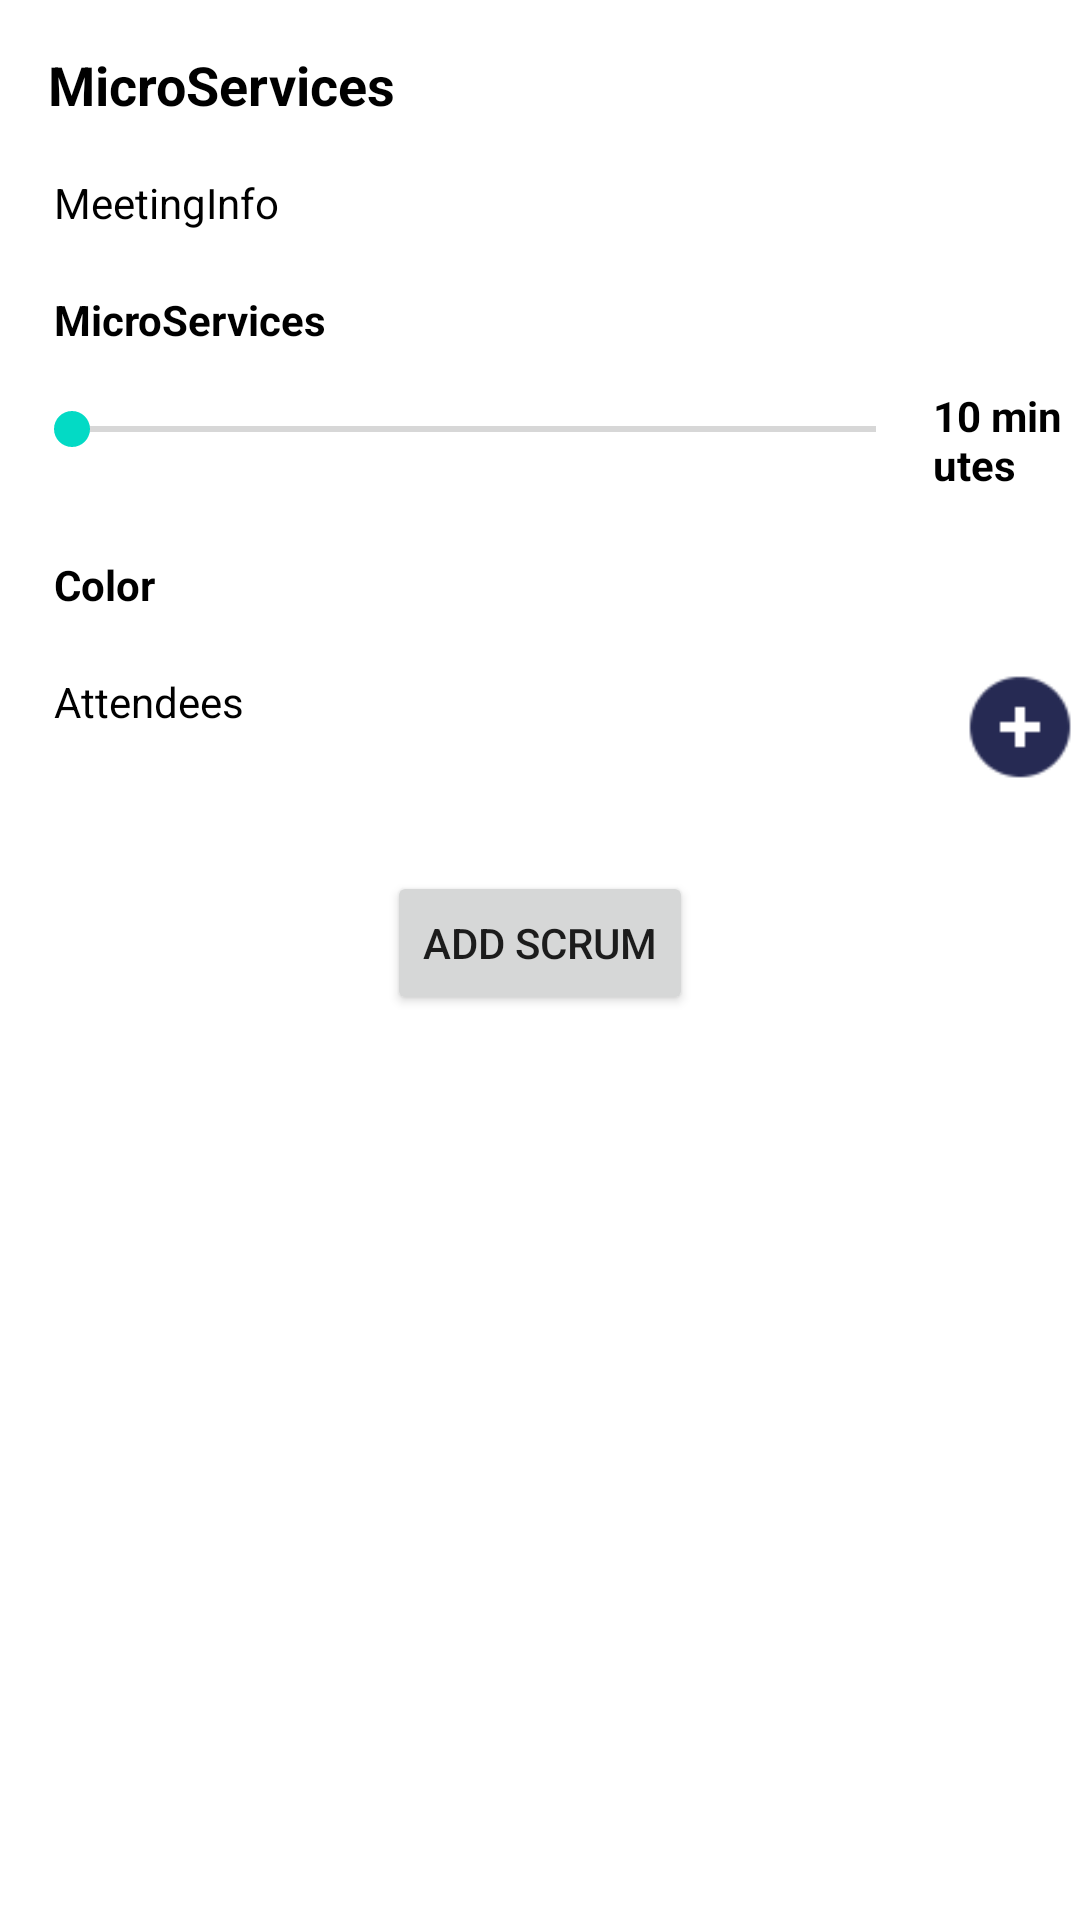

Screen size 1080w x 1920h. Icon name, then its center in pixels as [x,y]:
add: [1020,727]
